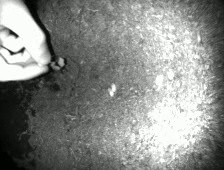corn: (152, 72, 167, 87), (105, 85, 117, 98), (108, 80, 119, 94), (35, 60, 49, 69)
